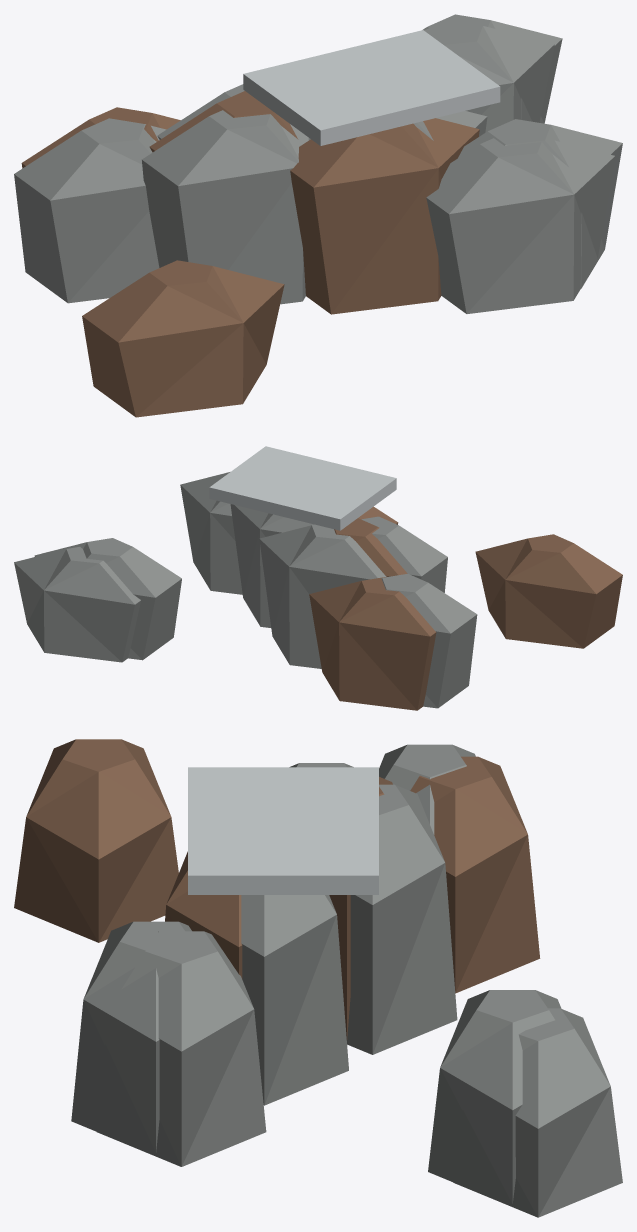
File: ballast_pile.glb
The picture shows the model from 3 angles, top to bottom: view 1: azimuth 30°, elevation 25°; view 2: azimuth 150°, elevation 25°; view 3: azimuth 270°, elevation 25°; orthographic projection. The views are drawn at different scales.
Parts seen in each view (by area): view 1: ballast_pile; view 2: ballast_pile; view 3: ballast_pile.
Part boxes in pixels (<box>): ballast_pile: <box>14,14,622,417</box>; ballast_pile: <box>14,446,622,710</box>; ballast_pile: <box>14,739,622,1217</box>.
Bounding box in the file's own units: 2.88 × 0.8 × 1.92.
